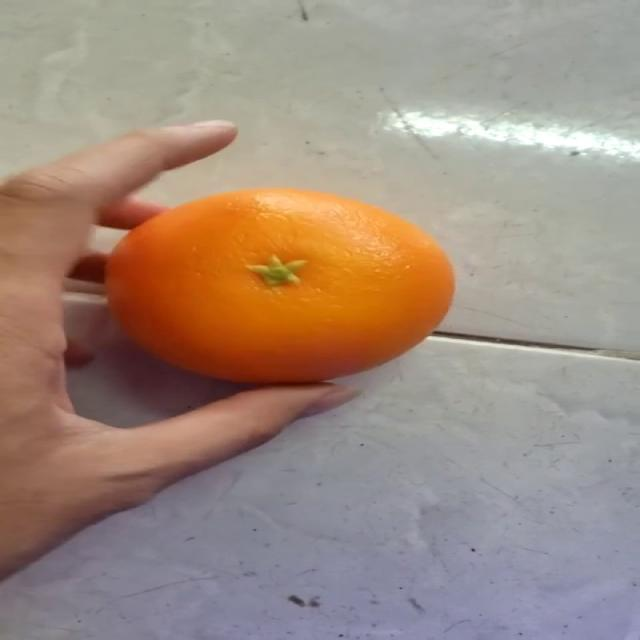Orange: (103, 185, 456, 384)
